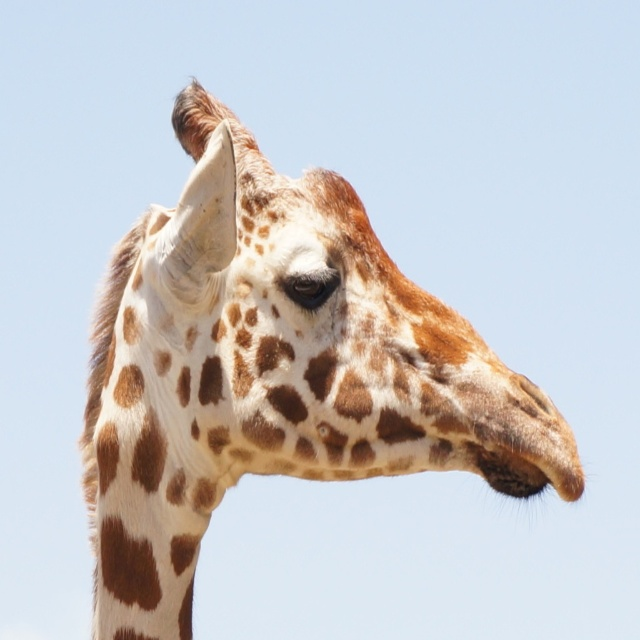Giraffe: (86, 91, 582, 640)
